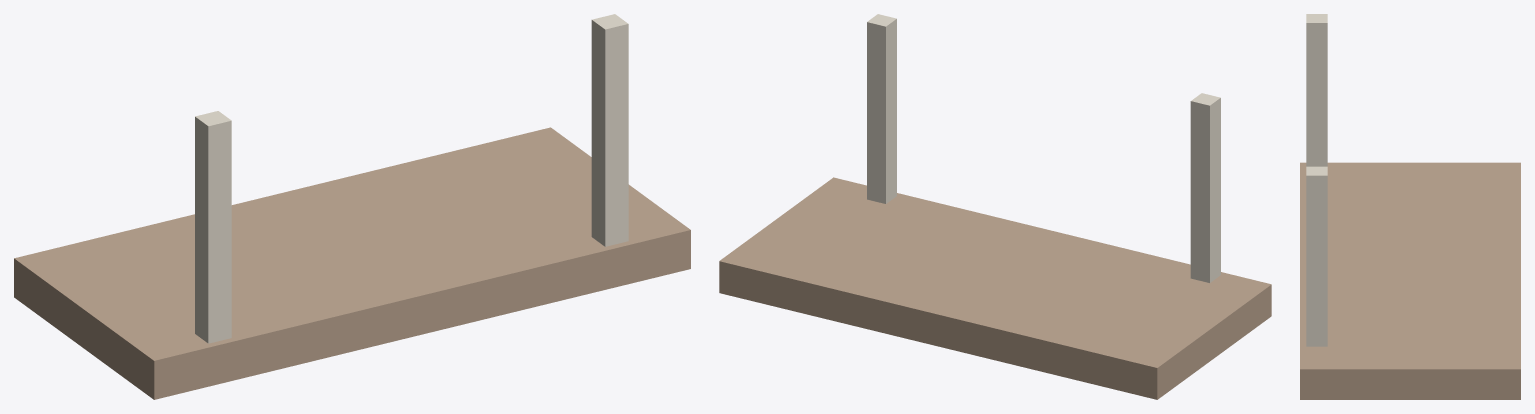
The model's file is MOD_VERANDAH_STANDARD_TIMBER_001_LOD_CLOSE.glb.
3 views of the same model, side by side, from view 1: azimuth 30°, elevation 25°; view 2: azimuth 150°, elevation 25°; view 3: azimuth 270°, elevation 25° (orthographic). The views are drawn at different scales.
Parts seen in each view (by area): view 1: MOD_VERANDAH_STANDARD_TIMBER_001_CLOSE_DECK, MOD_VERANDAH_STANDARD_TIMBER_001_CLOSE_POST_R, MOD_VERANDAH_STANDARD_TIMBER_001_CLOSE_POST_L; view 2: MOD_VERANDAH_STANDARD_TIMBER_001_CLOSE_DECK, MOD_VERANDAH_STANDARD_TIMBER_001_CLOSE_POST_L, MOD_VERANDAH_STANDARD_TIMBER_001_CLOSE_POST_R; view 3: MOD_VERANDAH_STANDARD_TIMBER_001_CLOSE_DECK, MOD_VERANDAH_STANDARD_TIMBER_001_CLOSE_POST_R, MOD_VERANDAH_STANDARD_TIMBER_001_CLOSE_POST_L.
Part boxes in pixels (x1=…): MOD_VERANDAH_STANDARD_TIMBER_001_CLOSE_DECK: x1=14, y1=127, x2=690, y2=399; MOD_VERANDAH_STANDARD_TIMBER_001_CLOSE_POST_R: x1=591, y1=14, x2=628, y2=246; MOD_VERANDAH_STANDARD_TIMBER_001_CLOSE_POST_L: x1=195, y1=111, x2=231, y2=343; MOD_VERANDAH_STANDARD_TIMBER_001_CLOSE_DECK: x1=719, y1=177, x2=1271, y2=399; MOD_VERANDAH_STANDARD_TIMBER_001_CLOSE_POST_L: x1=1190, y1=93, x2=1220, y2=282; MOD_VERANDAH_STANDARD_TIMBER_001_CLOSE_POST_R: x1=867, y1=14, x2=896, y2=203; MOD_VERANDAH_STANDARD_TIMBER_001_CLOSE_DECK: x1=1300, y1=162, x2=1520, y2=399; MOD_VERANDAH_STANDARD_TIMBER_001_CLOSE_POST_R: x1=1306, y1=166, x2=1327, y2=346; MOD_VERANDAH_STANDARD_TIMBER_001_CLOSE_POST_L: x1=1306, y1=14, x2=1327, y2=166.
Size of the model in its own units: 2.3 by 1.05 by 1.04.
